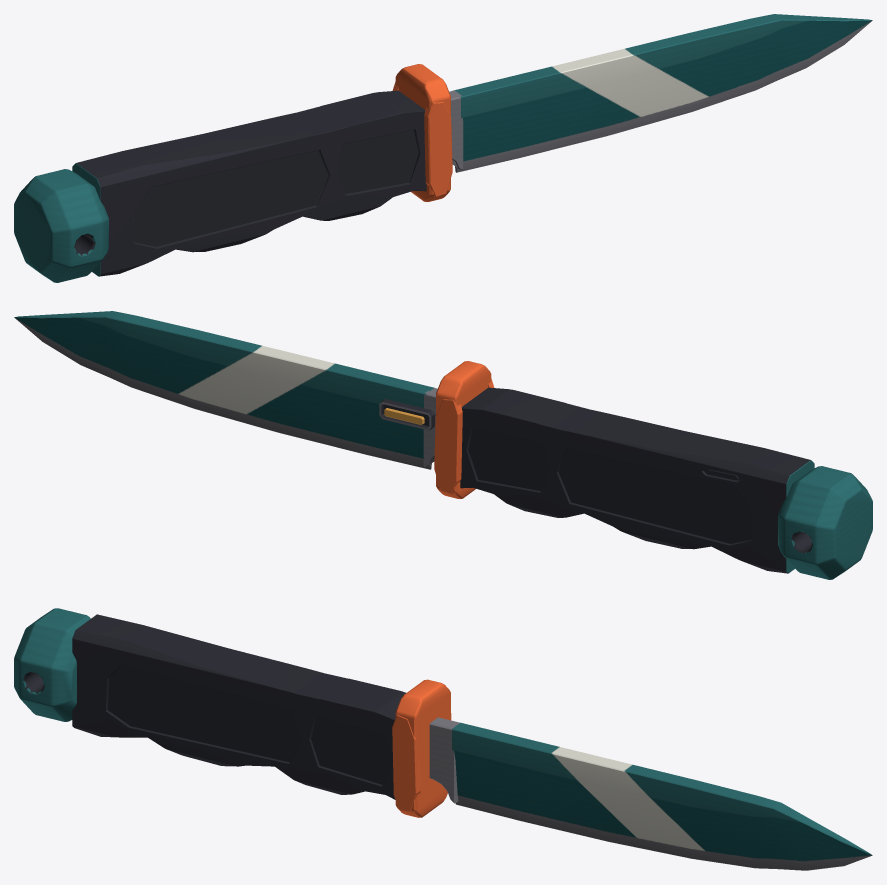
Rendered from Knife_Breakwater_v01.fbx.
3 views of the same model, one above another, from view 1: azimuth 30°, elevation 25°; view 2: azimuth 150°, elevation 25°; view 3: azimuth 330°, elevation 25° (orthographic).
Visible parts, largest first — view 1: Knife_Hilt, Knife_Blade, Breakwater_GuardSurround_R; view 2: Knife_Hilt, Knife_Blade, Breakwater_GuardSurround_L, Breakwater_LatchHousing; view 3: Knife_Hilt, Knife_Blade, Breakwater_GuardSurround_R.
Part boxes in pixels (left/top/right/bottom): Knife_Hilt: left=14, top=64, right=450, bottom=282; Knife_Blade: left=449, top=14, right=872, bottom=172; Breakwater_GuardSurround_R: left=424, top=102, right=452, bottom=197; Knife_Hilt: left=436, top=361, right=872, bottom=579; Knife_Blade: left=14, top=311, right=437, bottom=469; Breakwater_GuardSurround_L: left=434, top=399, right=462, bottom=494; Breakwater_LatchHousing: left=379, top=399, right=434, bottom=430; Knife_Hilt: left=14, top=608, right=450, bottom=817; Knife_Blade: left=429, top=717, right=872, bottom=870; Breakwater_GuardSurround_R: left=392, top=714, right=420, bottom=812.
Size of the model in its own units: 172 by 23.66 by 18.11.
7 materials, 7 textured.
